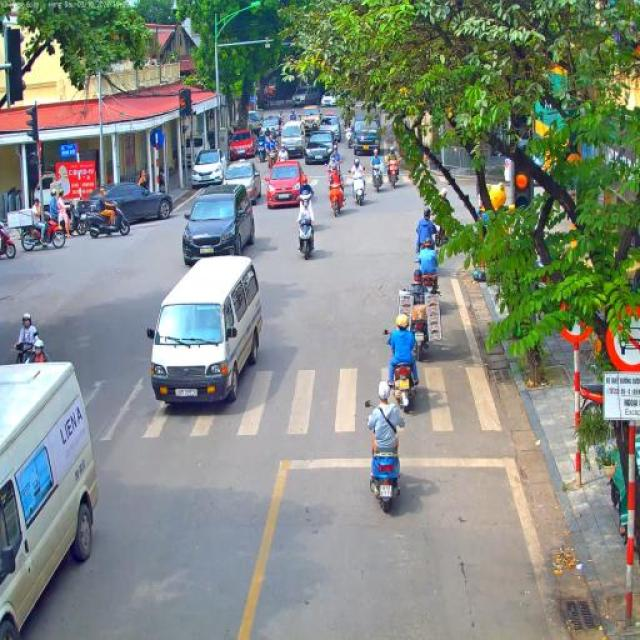bus: (0, 360, 100, 640), (146, 253, 264, 408)
car: (182, 184, 256, 265), (76, 182, 174, 223), (264, 160, 310, 210), (223, 159, 262, 205), (192, 148, 228, 188), (279, 121, 307, 159), (304, 130, 334, 165), (228, 128, 256, 162), (317, 115, 342, 144), (298, 104, 322, 132), (292, 86, 319, 108), (260, 116, 281, 144), (246, 110, 262, 132), (320, 90, 338, 108)
motorcycle: (364, 398, 402, 514), (382, 327, 418, 412), (15, 217, 66, 252), (88, 201, 131, 237), (408, 317, 432, 362), (326, 169, 344, 216), (0, 219, 18, 260), (296, 220, 314, 260), (70, 200, 90, 236), (419, 270, 442, 296), (13, 341, 37, 364), (431, 224, 451, 248), (370, 163, 385, 193), (350, 178, 366, 206), (386, 158, 400, 188), (297, 190, 315, 210), (344, 126, 354, 150), (267, 150, 278, 170), (257, 142, 267, 162), (279, 124, 286, 144)
truck: (352, 106, 386, 156)
